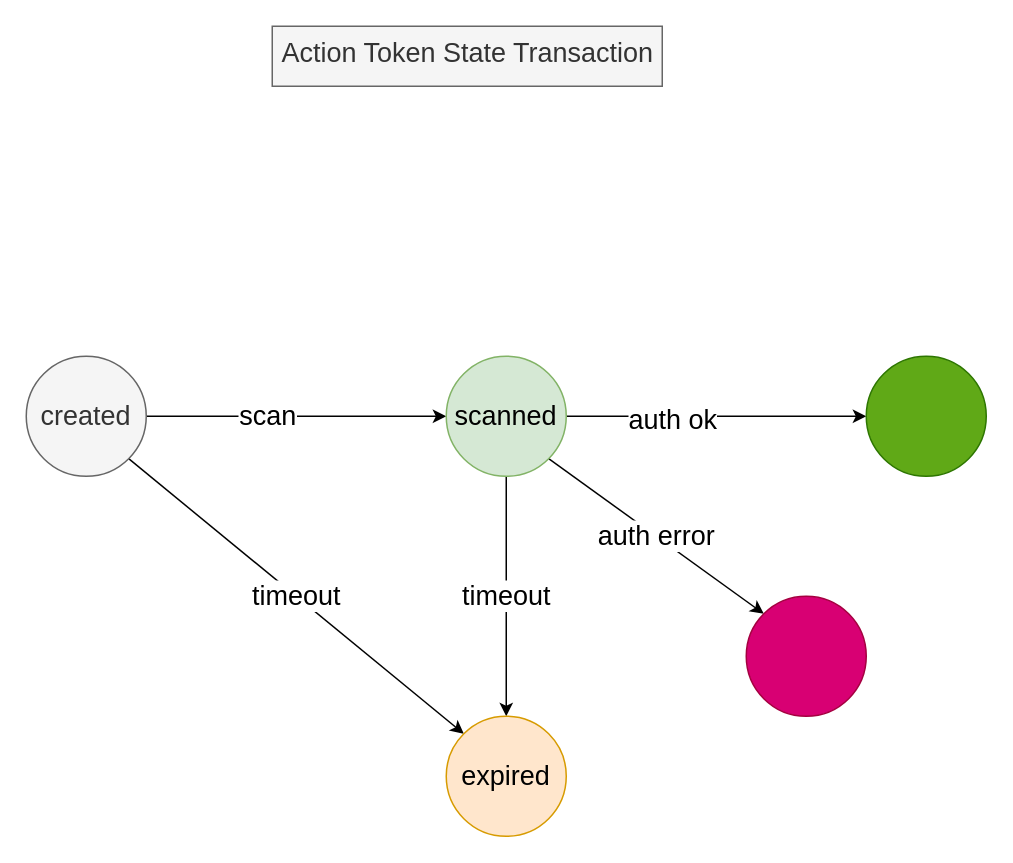
This 1013x863 diagram has some shape labels left out. Each missing label, with the centre of its shape:
"error" belongs at point 805,655.
"succeed" belongs at point 925,415.
